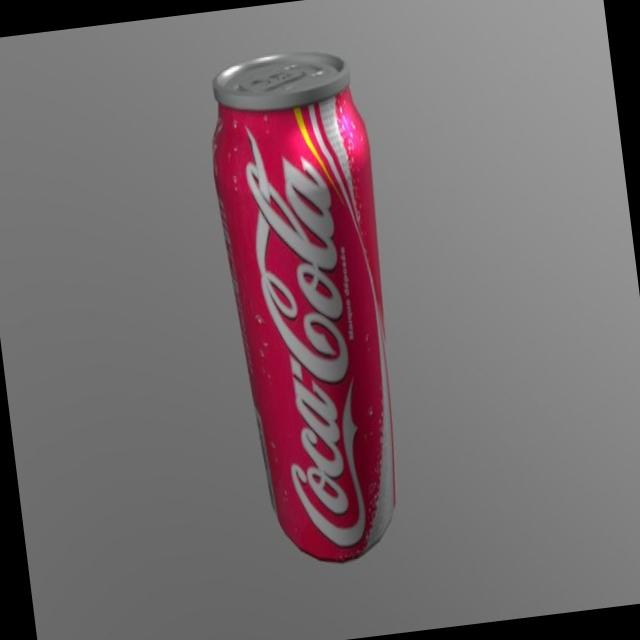cocacola: (192, 44, 408, 562)
